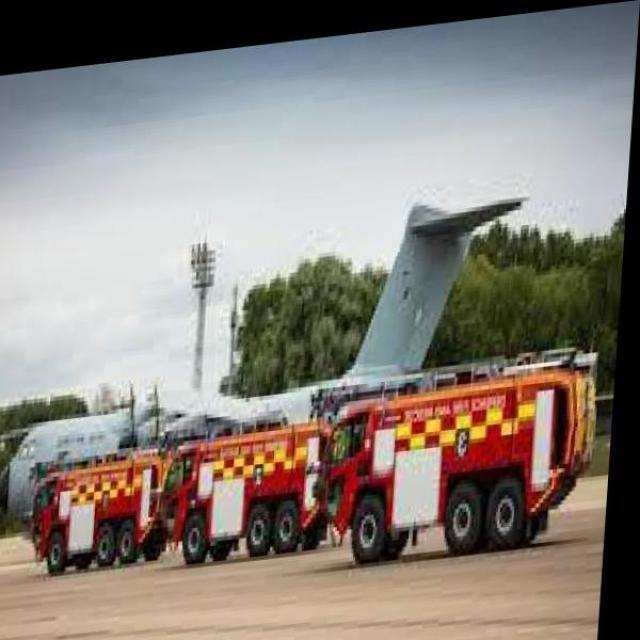emergency: (338, 362, 592, 554), (165, 436, 317, 564), (22, 464, 158, 574)
